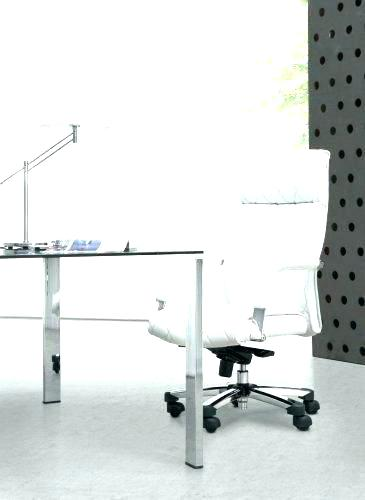chairs: (149, 141, 332, 437)
